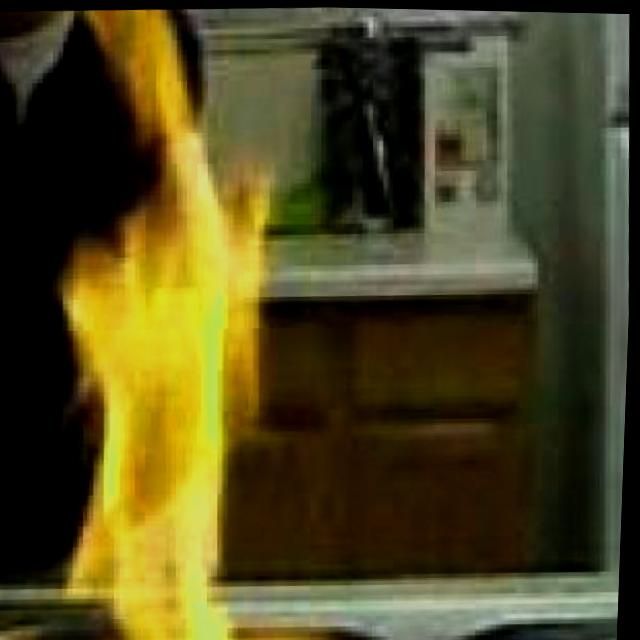fire: (26, 1, 362, 640)
